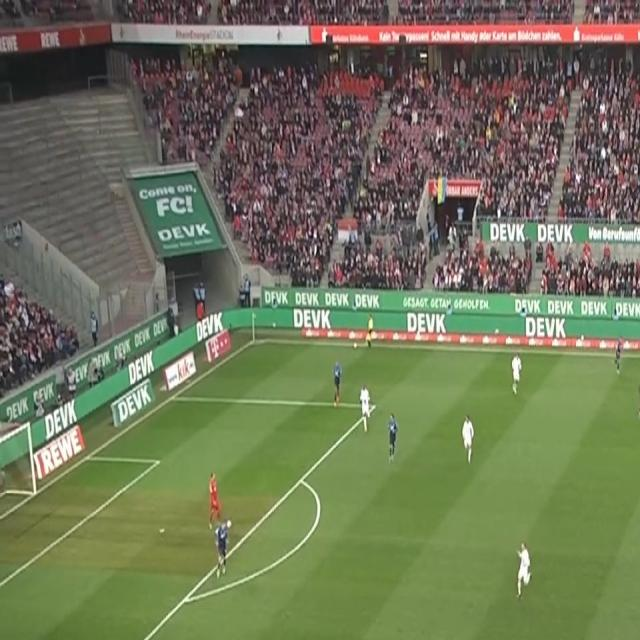ball: (226, 518, 232, 528)
